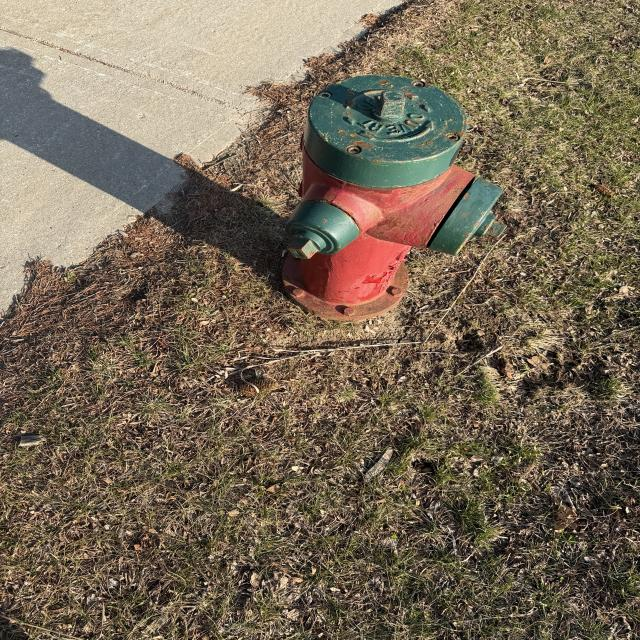Fire hydrant: (280, 74, 508, 321)
